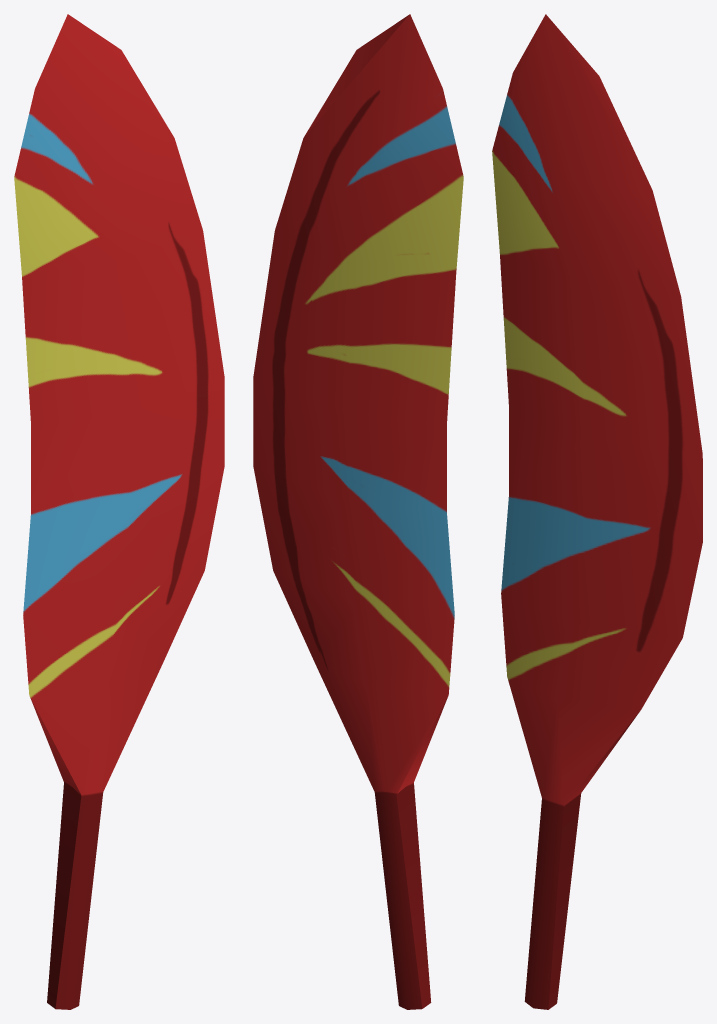
Rendered from Feather Pickup.fbx.
The picture shows the model from 3 angles, left to right: view 1: azimuth 30°, elevation 25°; view 2: azimuth 150°, elevation 25°; view 3: azimuth 330°, elevation 25°; orthographic projection.
Parts seen in each view (by area): view 1: pCube1; view 2: pCube1; view 3: pCube1.
Part boxes in pixels (x1,y1,x2,y2): pCube1: [14, 14, 224, 1009]; pCube1: [253, 14, 463, 1009]; pCube1: [492, 14, 702, 1009].
Bounding box in the file's own units: 1.28 × 5.77 × 0.229.
Materials: 1 (1 with a texture image).
